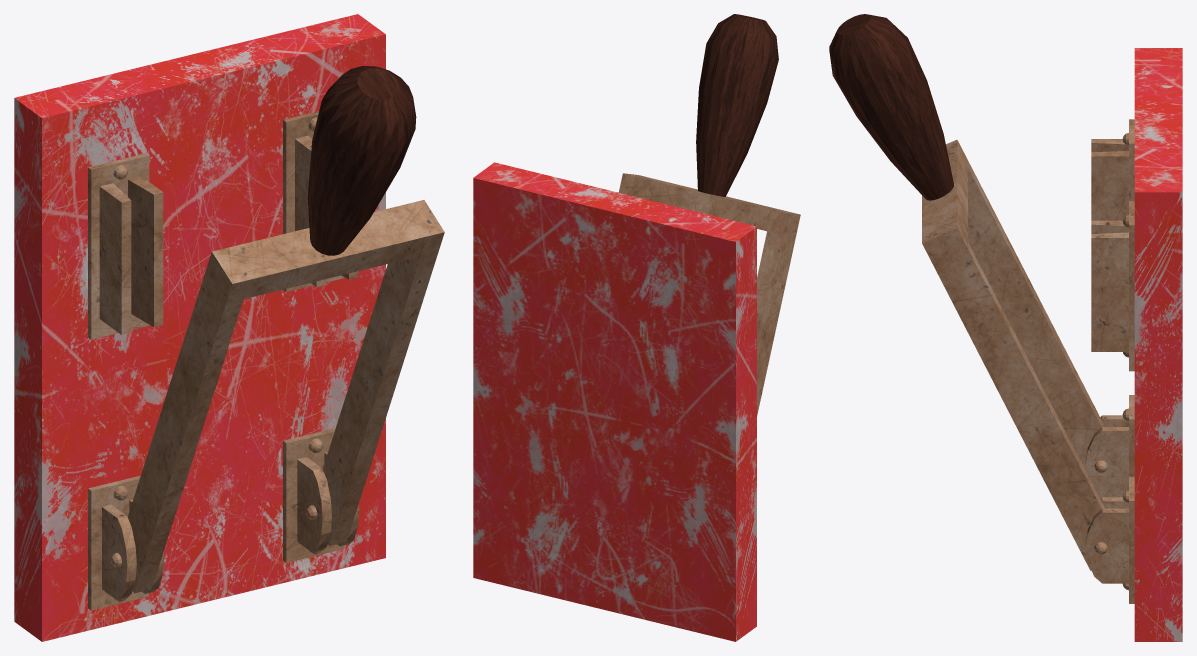
File: switch_couteaux.glb
3 views of the same model, side by side, from view 1: azimuth 30°, elevation 25°; view 2: azimuth 150°, elevation 25°; view 3: azimuth 270°, elevation 25° (orthographic). The views are drawn at different scales.
Parts seen in each view (by area): view 1: SwitchMain_SwitchMain_0, SwitchHandle_SwitchHandle_0; view 2: SwitchMain_SwitchMain_0, SwitchHandle_SwitchHandle_0; view 3: SwitchMain_SwitchMain_0, SwitchHandle_SwitchHandle_0.
Boxes of the visible parts, x1,y1,x2,y2 form: SwitchMain_SwitchMain_0: (14,14,385,641); SwitchHandle_SwitchHandle_0: (127,66,444,593); SwitchMain_SwitchMain_0: (473,162,756,641); SwitchHandle_SwitchHandle_0: (618,14,800,415); SwitchMain_SwitchMain_0: (1085,48,1182,641); SwitchHandle_SwitchHandle_0: (829,14,1104,570).
Size of the model in its own units: 5.33 by 9.53 by 5.52.
Materials: 2 (2 with a texture image).
